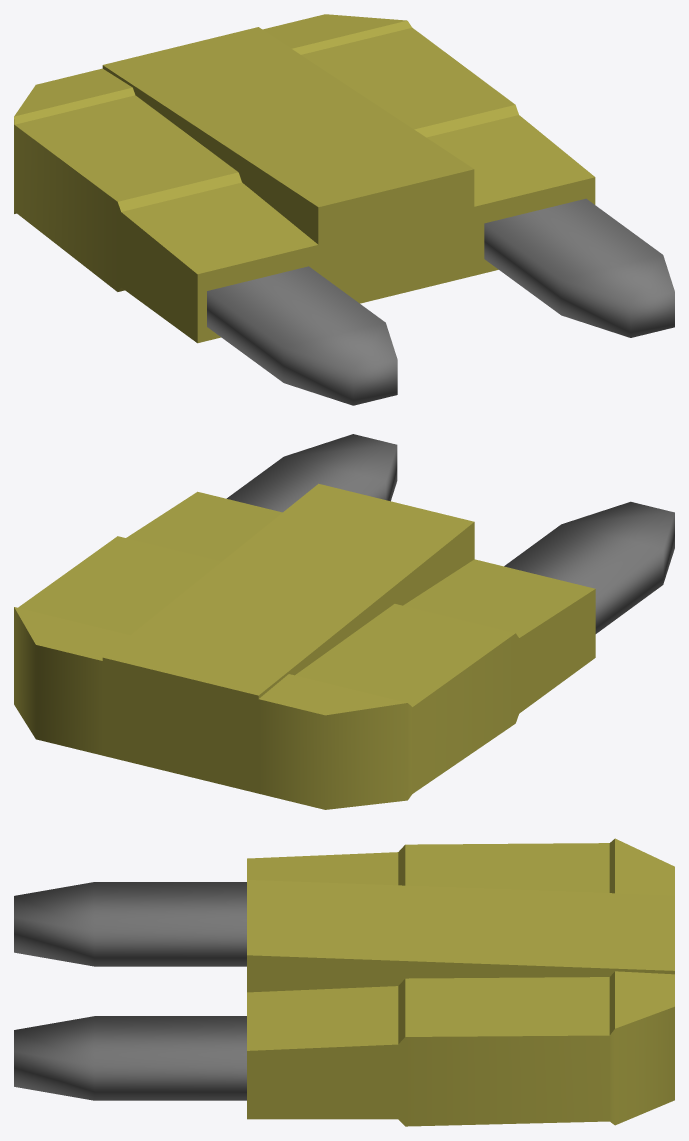
File: Fuse.fbx
The picture shows the model from 3 angles, top to bottom: view 1: azimuth 30°, elevation 25°; view 2: azimuth 150°, elevation 25°; view 3: azimuth 270°, elevation 25°; orthographic projection.
Parts seen in each view (by area): view 1: Fuse; view 2: Fuse; view 3: Fuse.
Part boxes in pixels (box(x1,y1,x2,y2)): Fuse: box(14, 14, 674, 405); Fuse: box(14, 434, 674, 809); Fuse: box(14, 838, 674, 1126).
Size of the model in its own units: 30.99 by 8.47 by 44.98.
